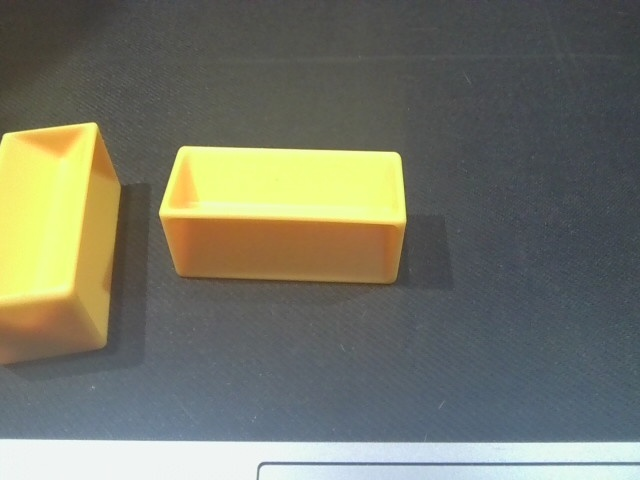YellowSample: (156, 139, 411, 288), (1, 120, 124, 367)
